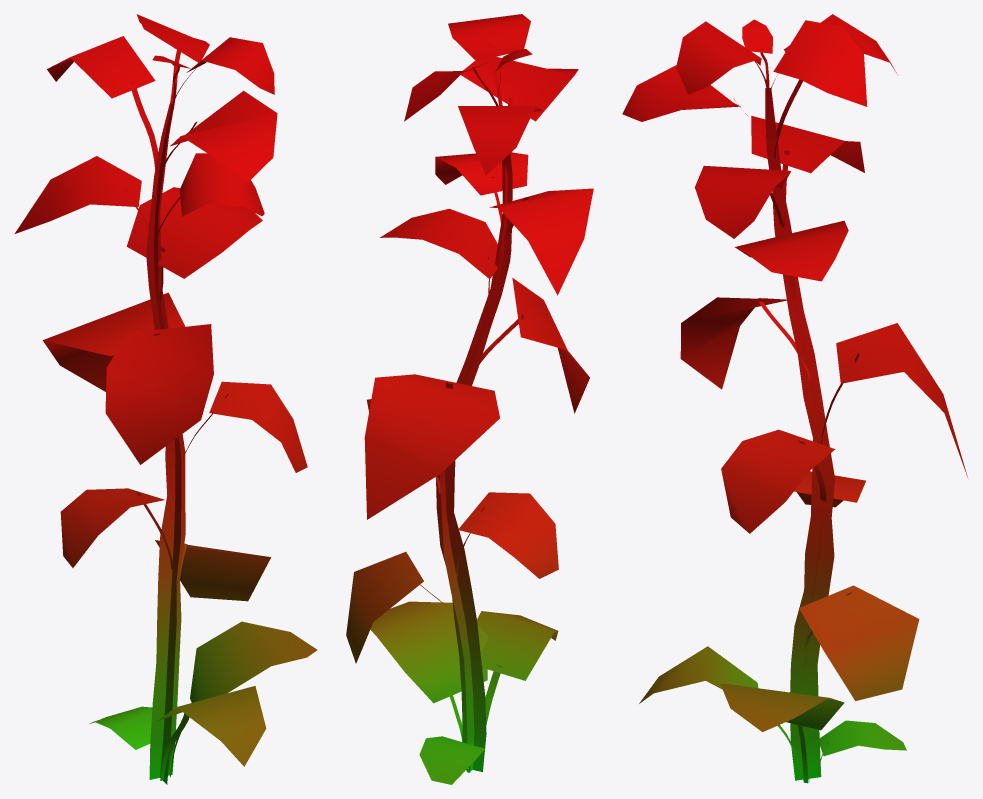
File: Money Plant_LOD2_Var1_uchmfdyia.fbx
3 views of the same model, side by side, from view 1: azimuth 30°, elevation 25°; view 2: azimuth 150°, elevation 25°; view 3: azimuth 270°, elevation 25° (orthographic). The views are drawn at different scales.
Visible parts, largest first — view 1: _7c21_Var1_LOD2; view 2: _7c21_Var1_LOD2; view 3: _7c21_Var1_LOD2.
Part boxes in pixels (x1=…): _7c21_Var1_LOD2: x1=14, y1=14, x2=317, y2=784; _7c21_Var1_LOD2: x1=346, y1=14, x2=593, y2=784; _7c21_Var1_LOD2: x1=622, y1=14, x2=967, y2=783.
Size of the model in its own units: 17.98 by 51.77 by 21.54.
